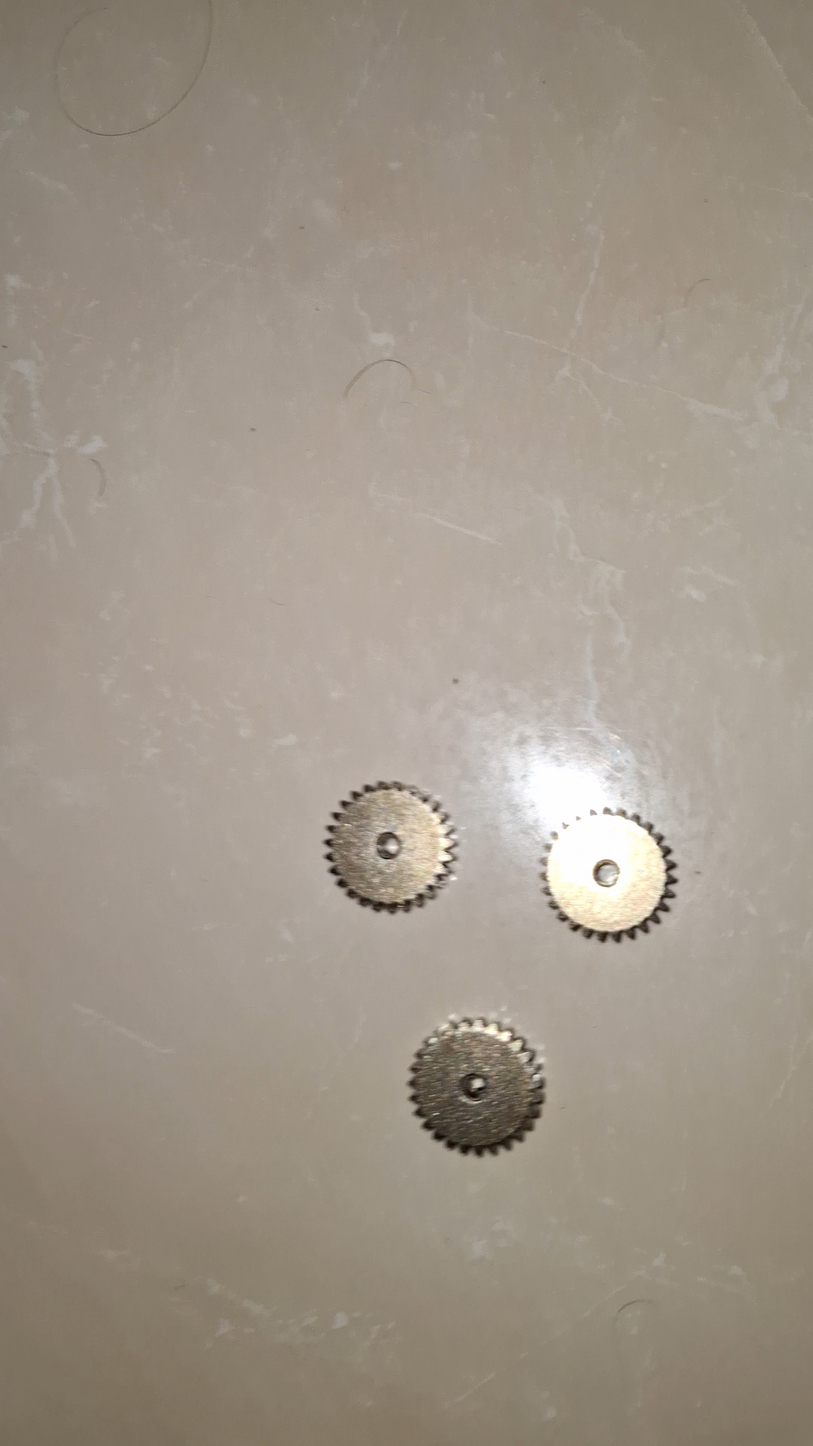spur gear: (410, 1019, 544, 1154), (543, 808, 676, 940), (326, 782, 456, 912)
